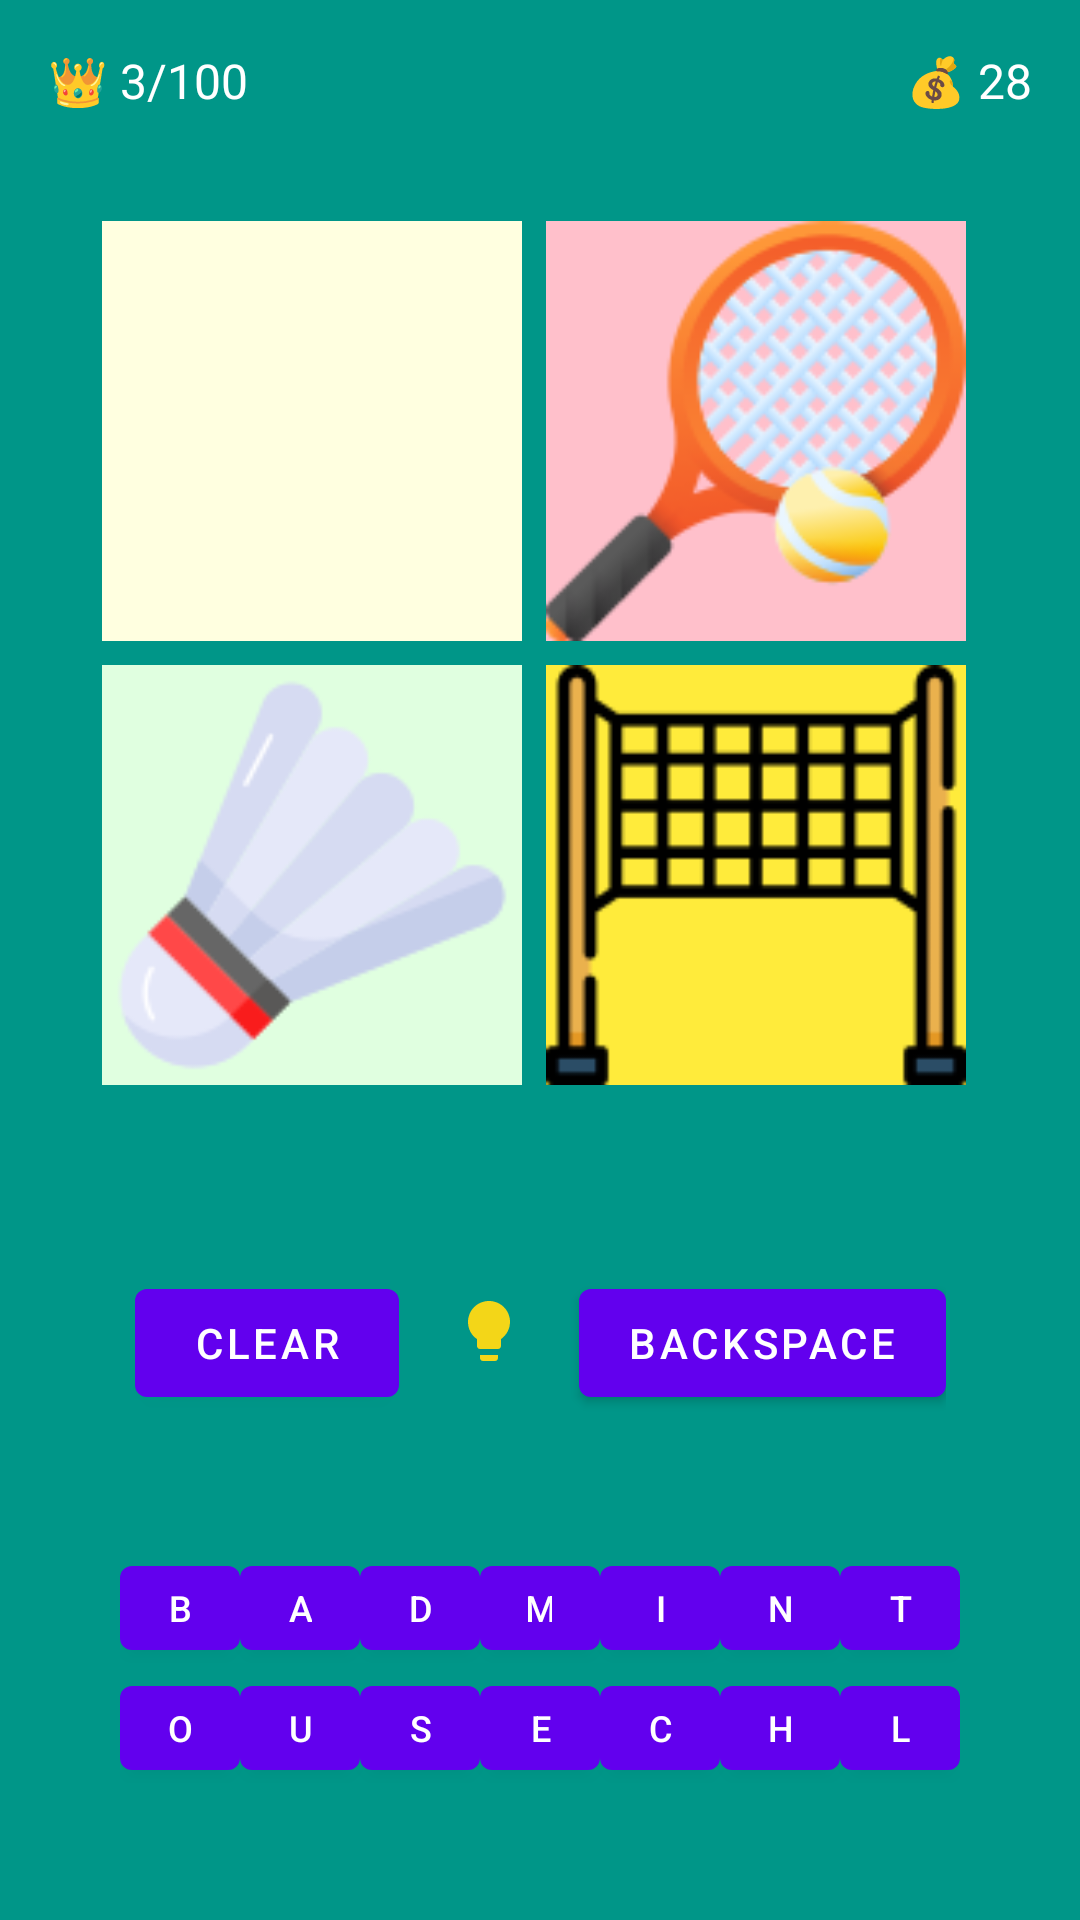

Screen size 1080*1920. Icon name, then its box in pixels as (x1, y1, x2, y2):
lightbulb: (468, 1301, 510, 1361)
